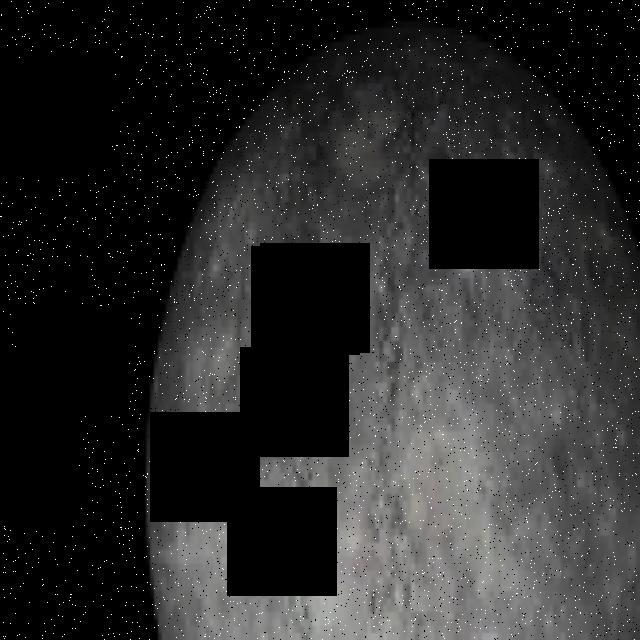Mercury: (146, 21, 640, 640)
